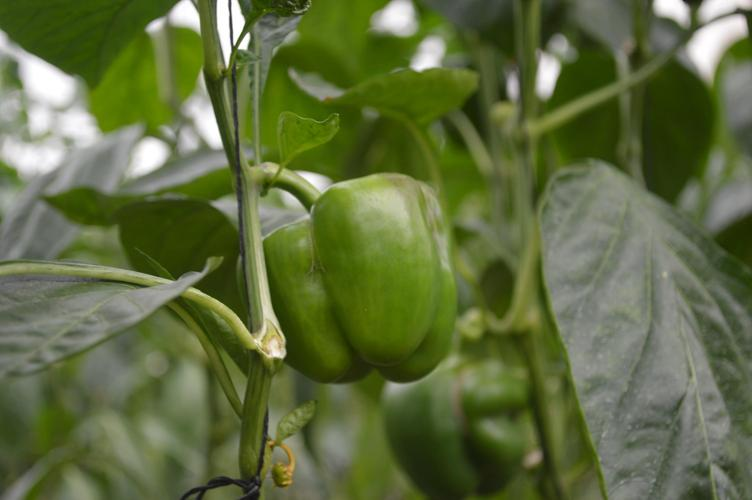BellPepper: (261, 173, 463, 395)
